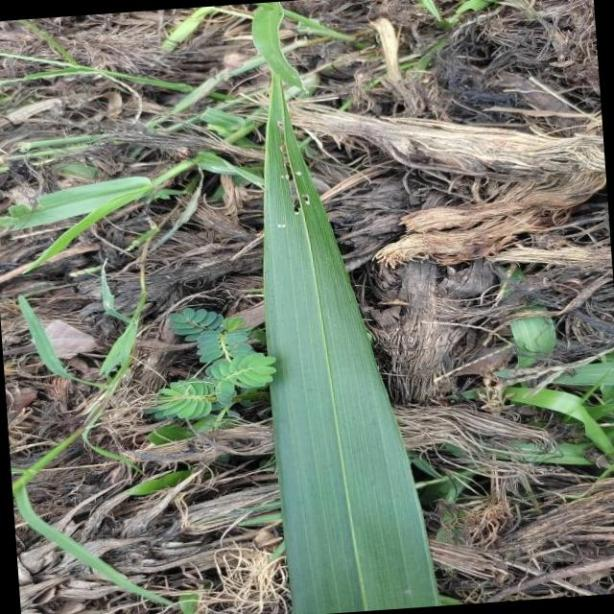Boron: (251, 0, 440, 614)
